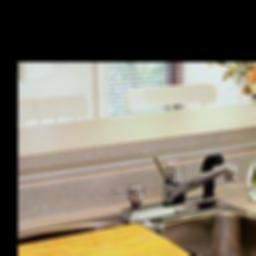Lavaplatos: (24, 155, 256, 256)
